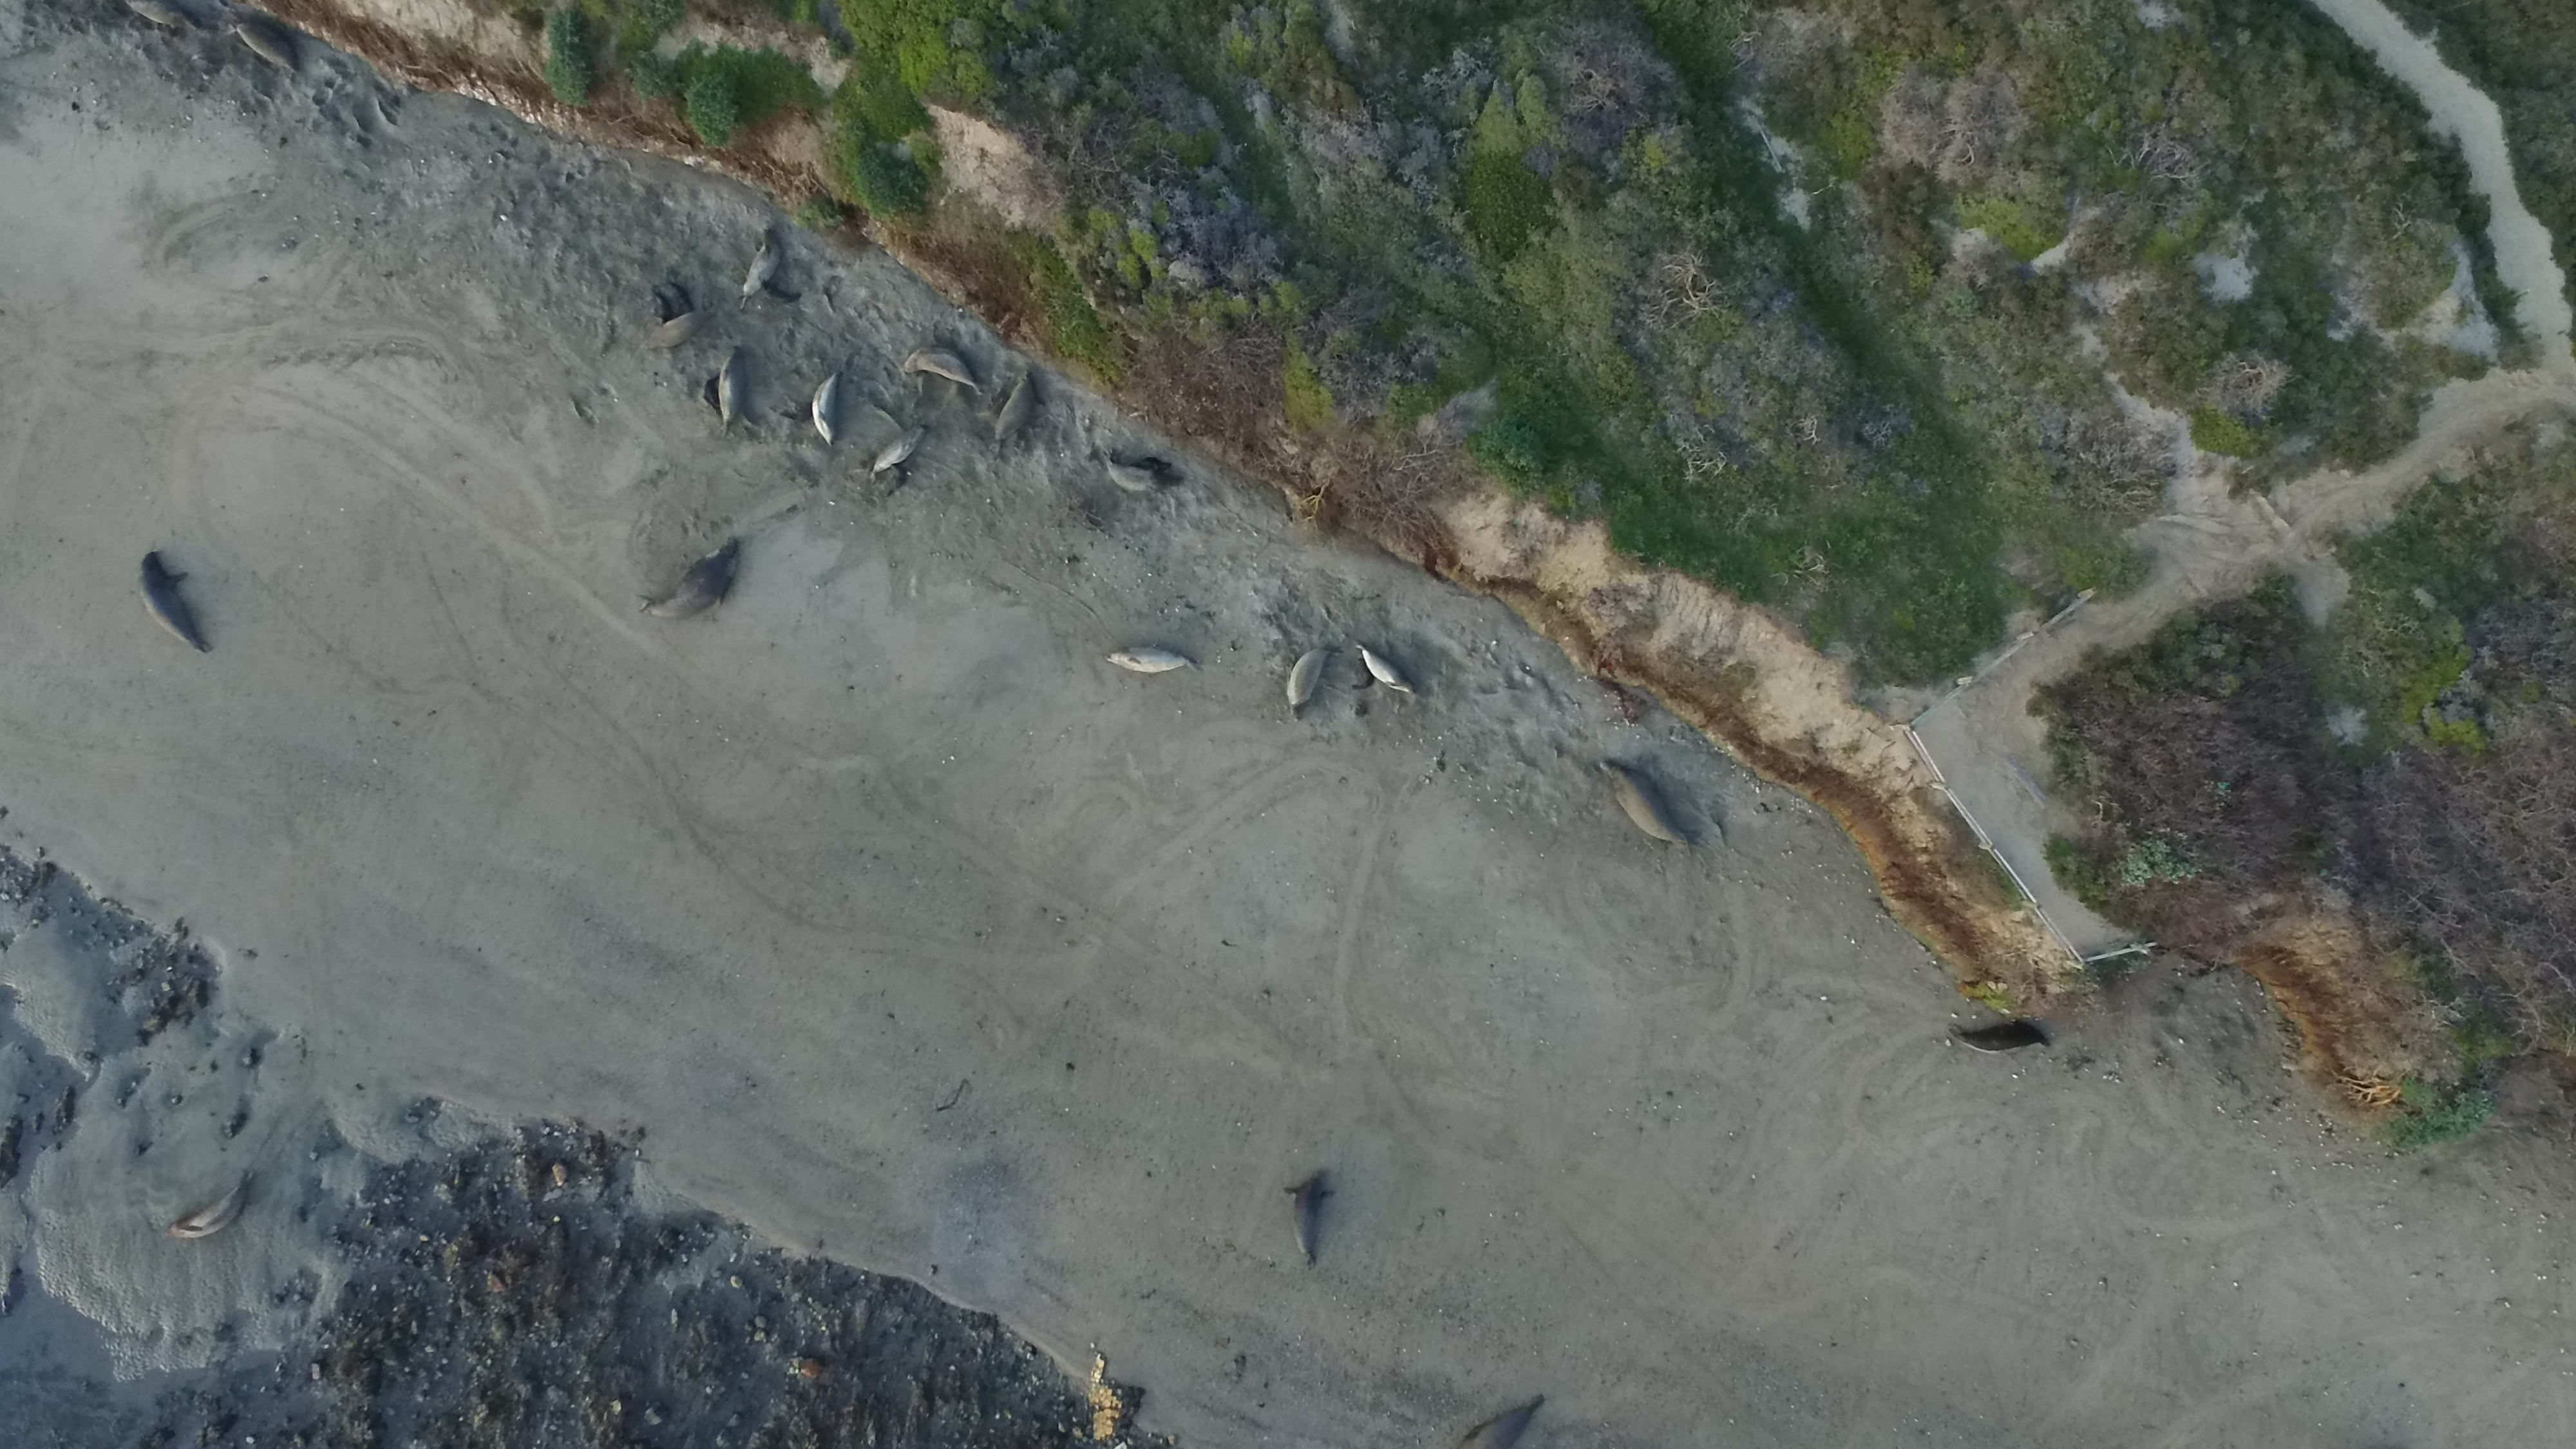adult male: (129, 550, 214, 656), (642, 543, 736, 619), (1953, 1023, 2052, 1054)
male juvenile / female juvenile / adult female: (166, 1171, 253, 1235), (1288, 1175, 1332, 1265), (908, 343, 980, 389), (637, 310, 715, 352), (1292, 646, 1336, 717), (1357, 644, 1415, 695), (747, 225, 782, 306), (867, 426, 927, 474), (996, 370, 1030, 451), (1108, 644, 1196, 672), (720, 347, 747, 433), (814, 373, 840, 448)
pup: (764, 285, 803, 303), (890, 465, 911, 495), (1355, 660, 1373, 695), (653, 292, 672, 322), (676, 285, 694, 311), (704, 372, 715, 410), (1134, 456, 1171, 467)
